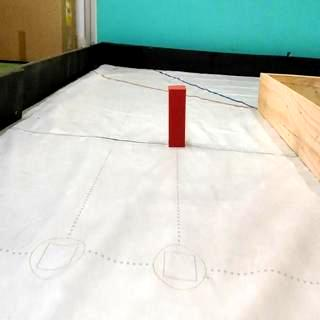redbox: (166, 84, 186, 146)
